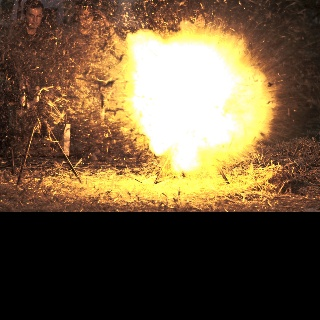without_mask: (22, 0, 43, 28), (75, 6, 94, 27)
